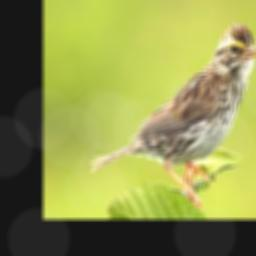Sparrow: (87, 17, 256, 210)
